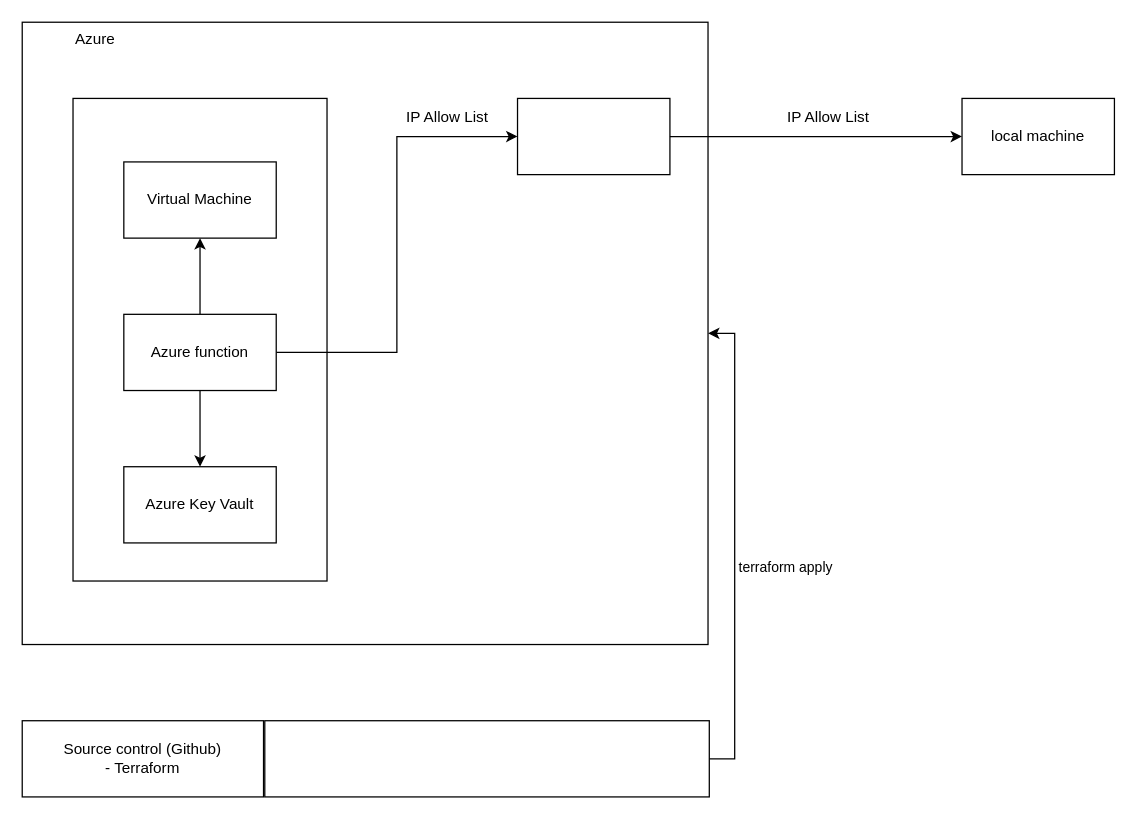
Image size: 1137x819. Some labels were removed from this diagram. The box of each missing label's shape, as (x1, y1, x2, y2) in pixels:
Azure Blob Storage: (516, 97, 670, 175)
Azure DevOps pipeline: (264, 719, 709, 797)
Virtual Network (VNET): (72, 97, 327, 581)
